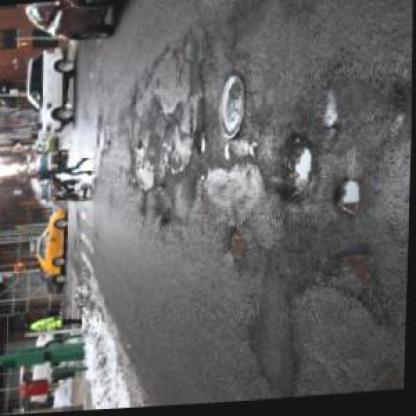pothole: (276, 138, 317, 206), (330, 248, 379, 291), (327, 179, 365, 220), (222, 226, 248, 269), (194, 133, 207, 155)
